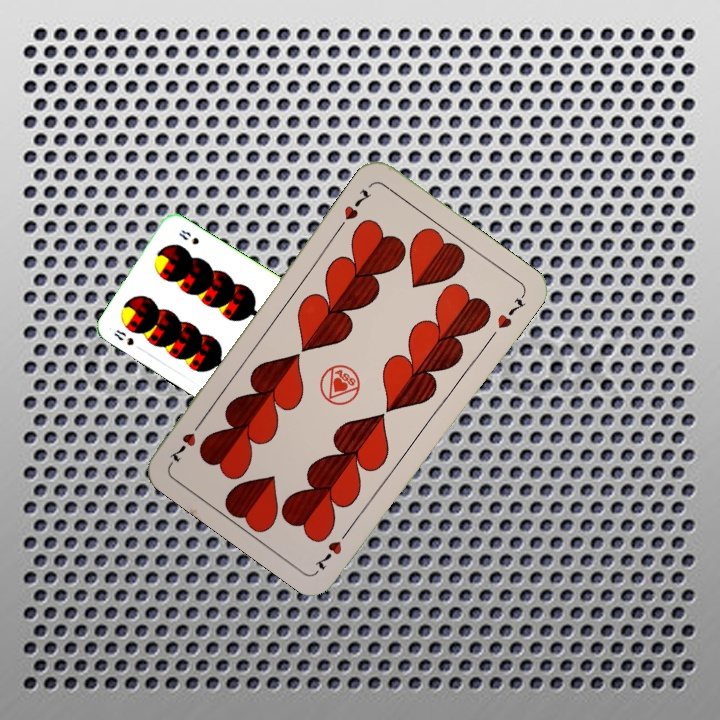H7: (311, 523, 354, 573), (334, 184, 375, 232)
S8: (110, 325, 137, 348)
